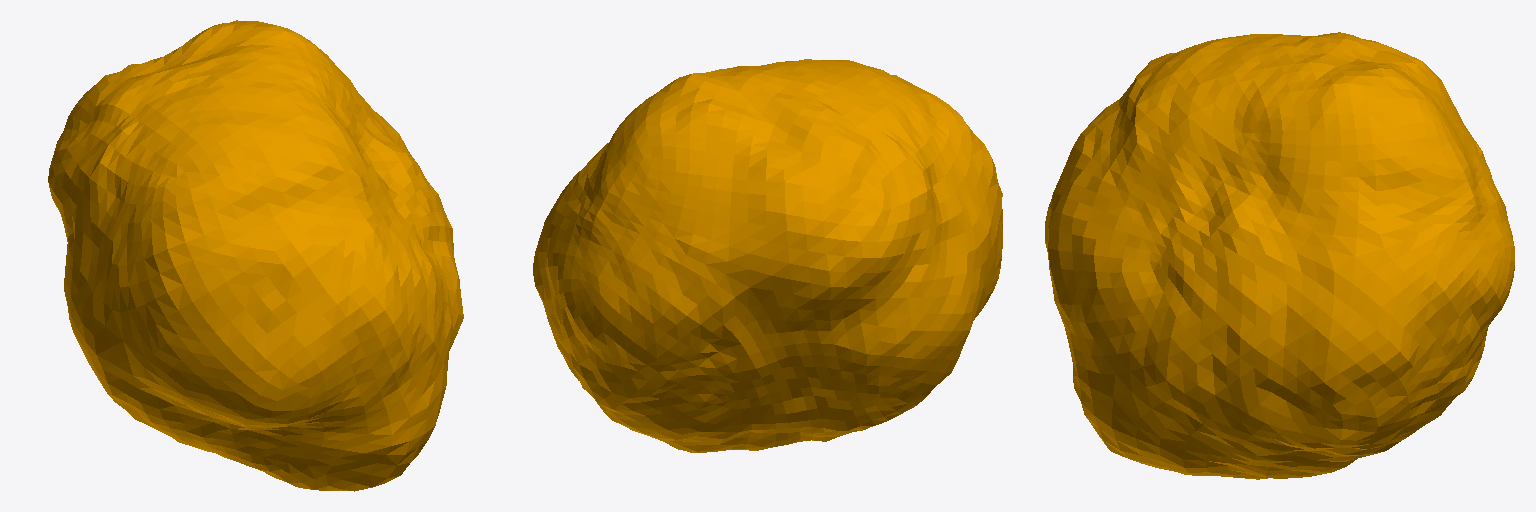
robot.urdf — rock:
<?xml version="1.0" ?>
<robot name="rock">
  <link name="rock">
    <inertial>
      <mass value="0.25"/>
      <origin rpy="0 0 0" xyz="0 0 0"/>
      <inertia ixx="0.00025" ixy="0" ixz="0" iyy="0.00025" iyz="0" izz="0.00025"/>
    </inertial>
    <collision name="rock_collision">
      <origin rpy="0 0 0" xyz="0 0 0"/>
      <geometry>
        <mesh filename="package://rocks/collision/45.stl" scale="1 1 1"/>
      </geometry>
    </collision>
    <visual name="rock_visual">
      <origin rpy="0 0 0" xyz="0 0 0"/>
      <geometry>
        <mesh filename="package://rocks/visual/45.dae" scale="1 1 1"/>
      </geometry>
    </visual>
  </link>
</robot>

--- Facts derived from the render (not from the file) ---
3 views of the same robot in one strip: view 1: azimuth 30°, elevation 25°; view 2: azimuth 150°, elevation 25°; view 3: azimuth 270°, elevation 25° (orthographic).
Robot: rock — 1 links, 0 joints (none); root link rock; default pose: all joints at 0.
Links seen in each view (by area): view 1: rock; view 2: rock; view 3: rock.
Link boxes in pixels (<box>): rock: <box>48,20,463,491</box>; rock: <box>533,59,1002,452</box>; rock: <box>1045,32,1514,479</box>.
Bounding box of the posed robot: 0.0911 × 0.0972 × 0.0893 m (x, y, z).
1 mesh visuals loaded from 1 distinct referenced files (1 Collada DAE).